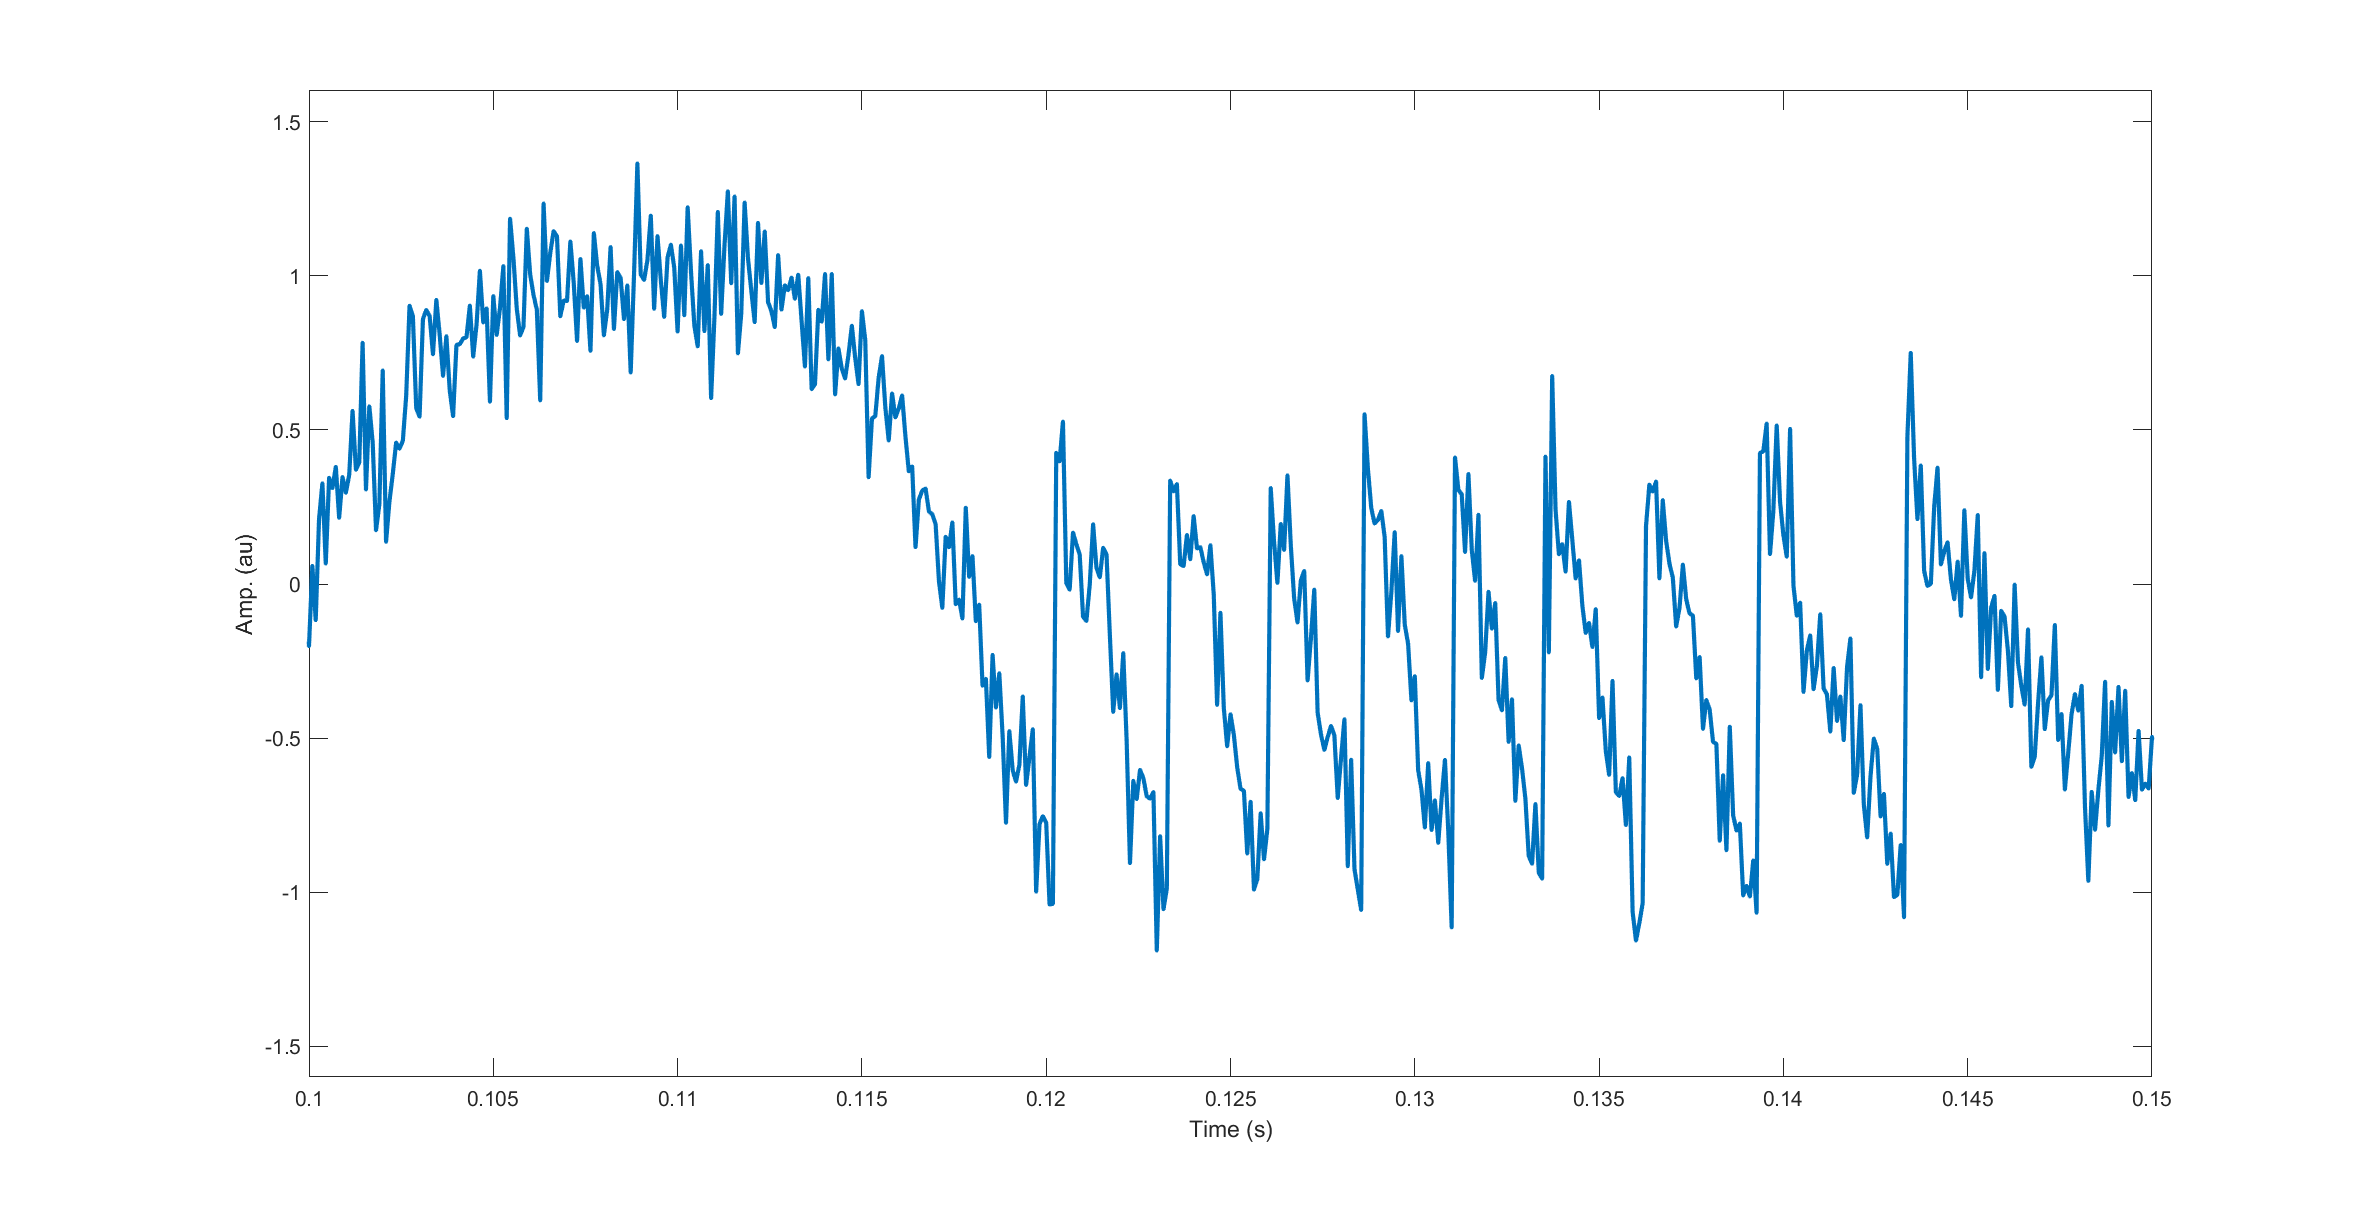negative_fringe: (1890, 343, 2062, 903), (1745, 412, 1880, 907), (1147, 432, 1248, 958), (1529, 350, 1625, 884), (1045, 412, 1143, 903), (1633, 451, 1730, 897), (1349, 406, 1432, 904), (1261, 449, 1347, 907), (1440, 448, 1517, 928)
